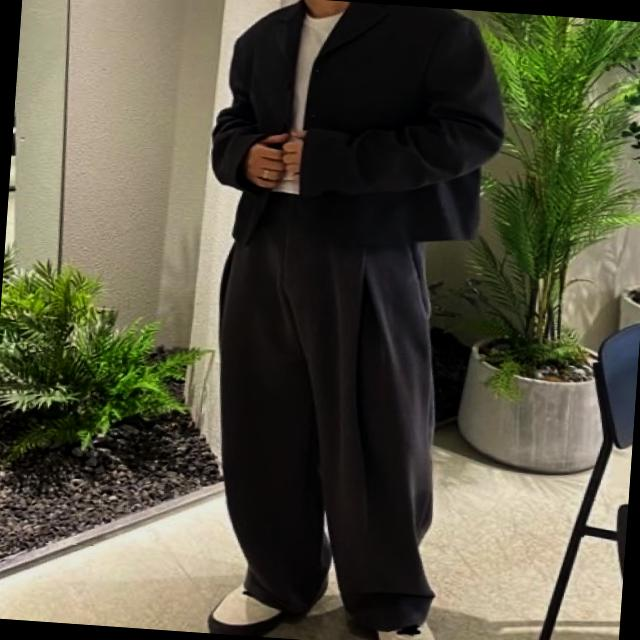skirt: (202, 0, 509, 262)
slacks: (193, 184, 467, 640)
